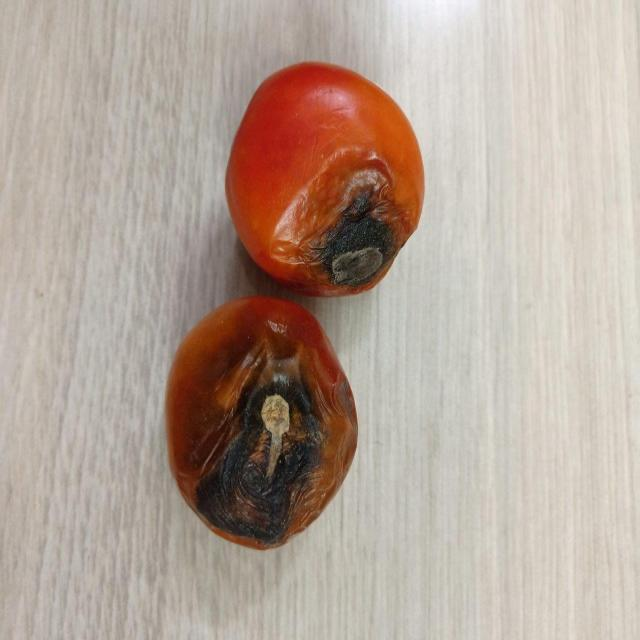Rotten: (166, 295, 359, 552), (225, 60, 424, 298)
